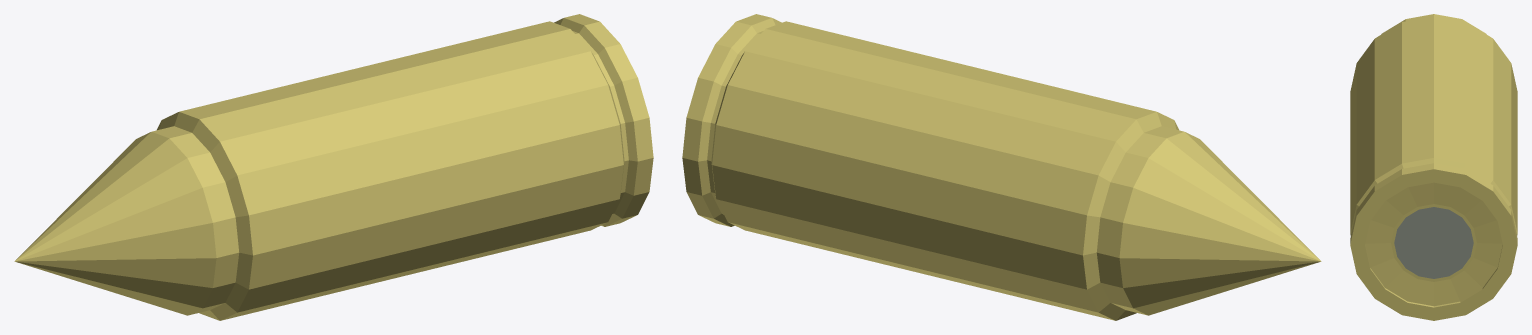
File: Bullet.fbx
3 renders of one model, left to right at view 1: azimuth 30°, elevation 25°; view 2: azimuth 150°, elevation 25°; view 3: azimuth 270°, elevation 25°, orthographic. The views are drawn at different scales.
Parts seen in each view (by area): view 1: Cylinder, Tip; view 2: Cylinder, Tip; view 3: Cylinder, Bottom, Tip.
Boxes of the visible parts, x1,y1,x2,y2 form: Cylinder: [157, 14, 653, 320]; Tip: [14, 126, 239, 315]; Cylinder: [682, 14, 1178, 320]; Tip: [1096, 126, 1321, 315]; Cylinder: [1350, 16, 1517, 320]; Bottom: [1394, 207, 1473, 278]; Tip: [1381, 14, 1486, 34].
Bounding box in the file's own units: 632 × 200 × 200.
